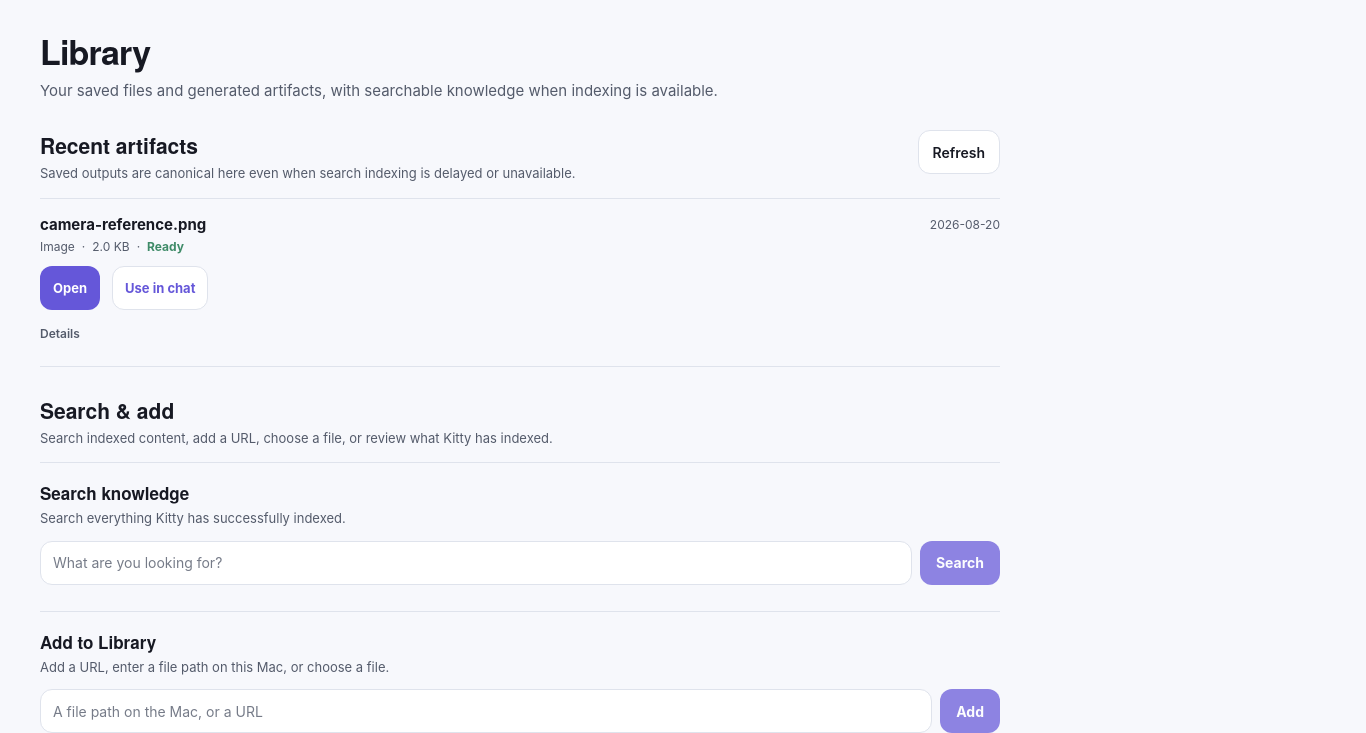
Test: LibraryView artifact truth › shows the gateway reason when a ready image cannot be resolved
Click the button with aria-label "use camera-reference.png in chat" at (160, 288), box 112,266 -> 208,310
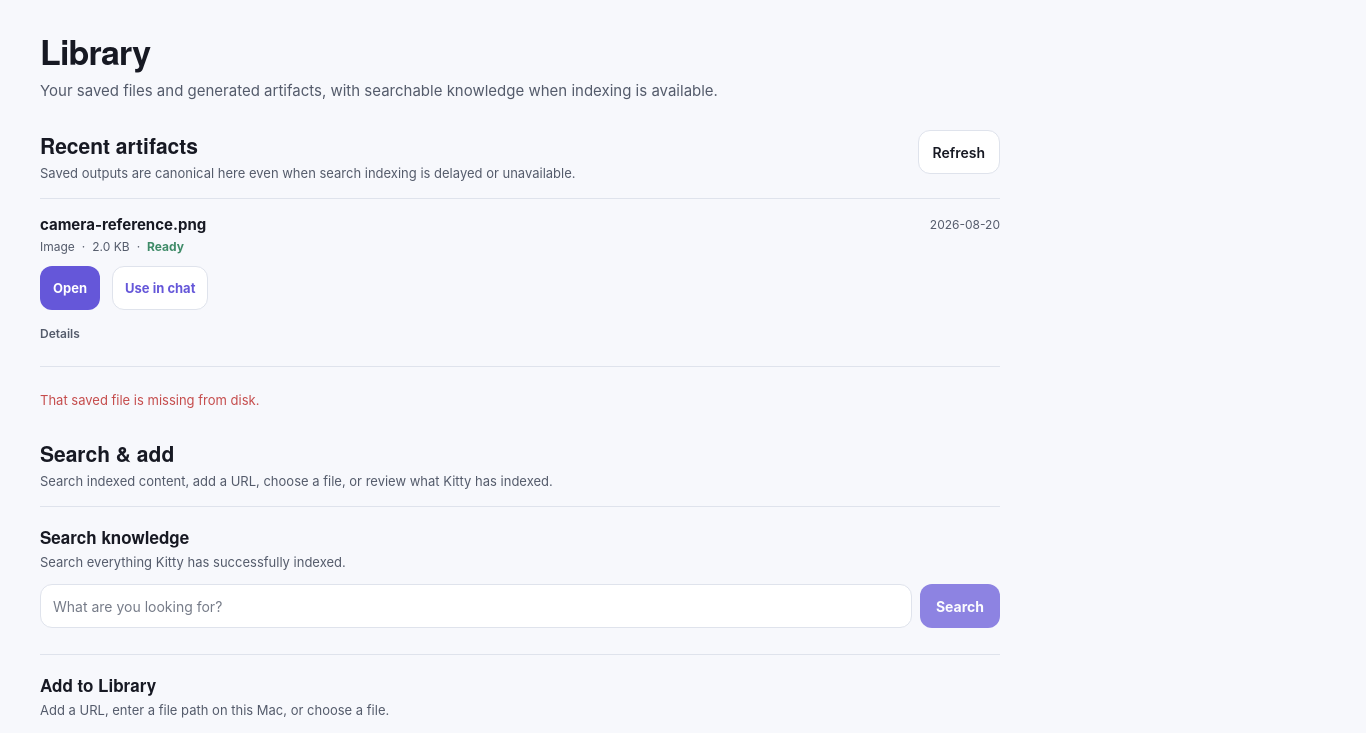
Result: the message reads "That saved file is missing from disk." at 40,392 -> 259,408
